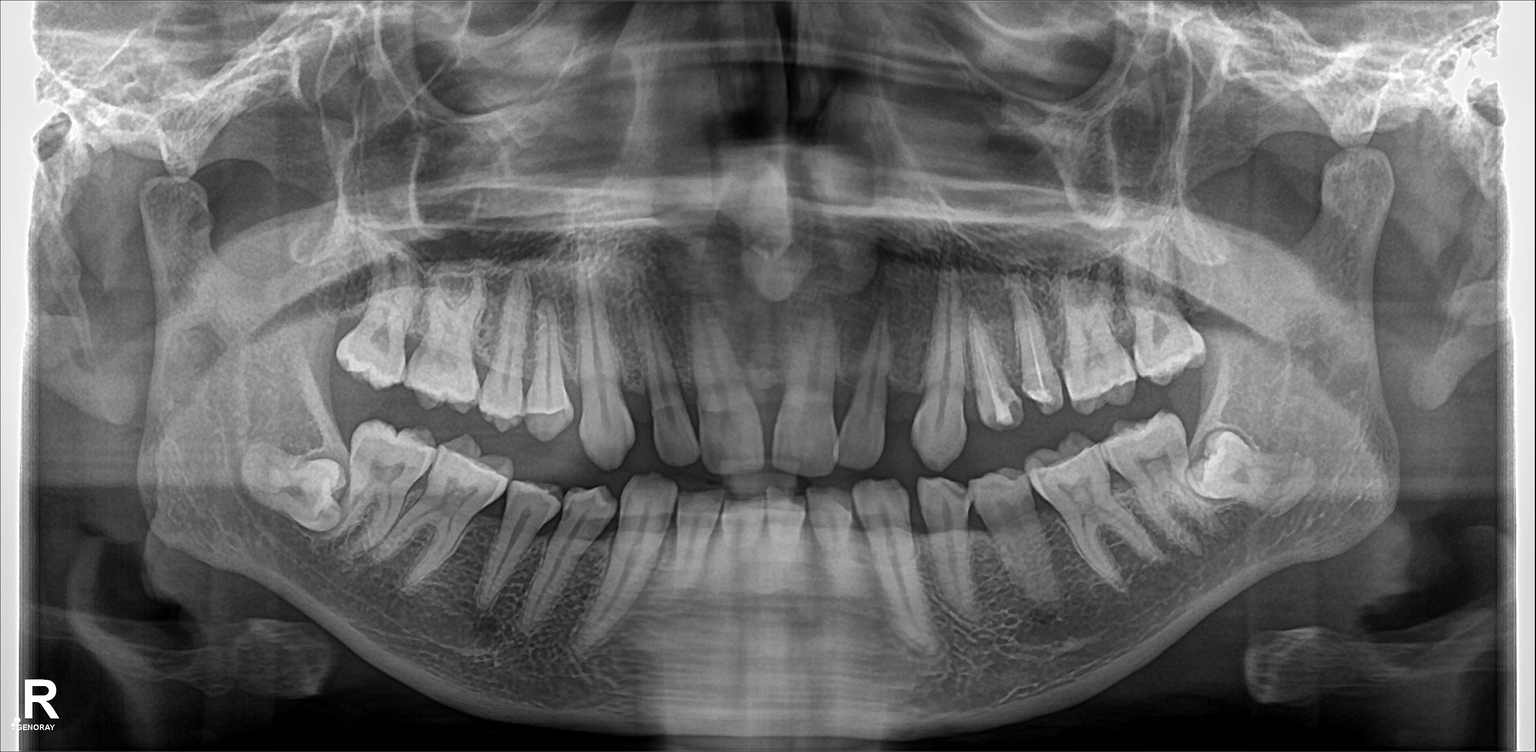Endodontically Treated Tooth: (968, 311, 1021, 429), (1011, 283, 1058, 411)
Impacted Third Molar: (233, 449, 341, 530), (1203, 436, 1311, 509)
Missing Tooth: (879, 329, 924, 454)
